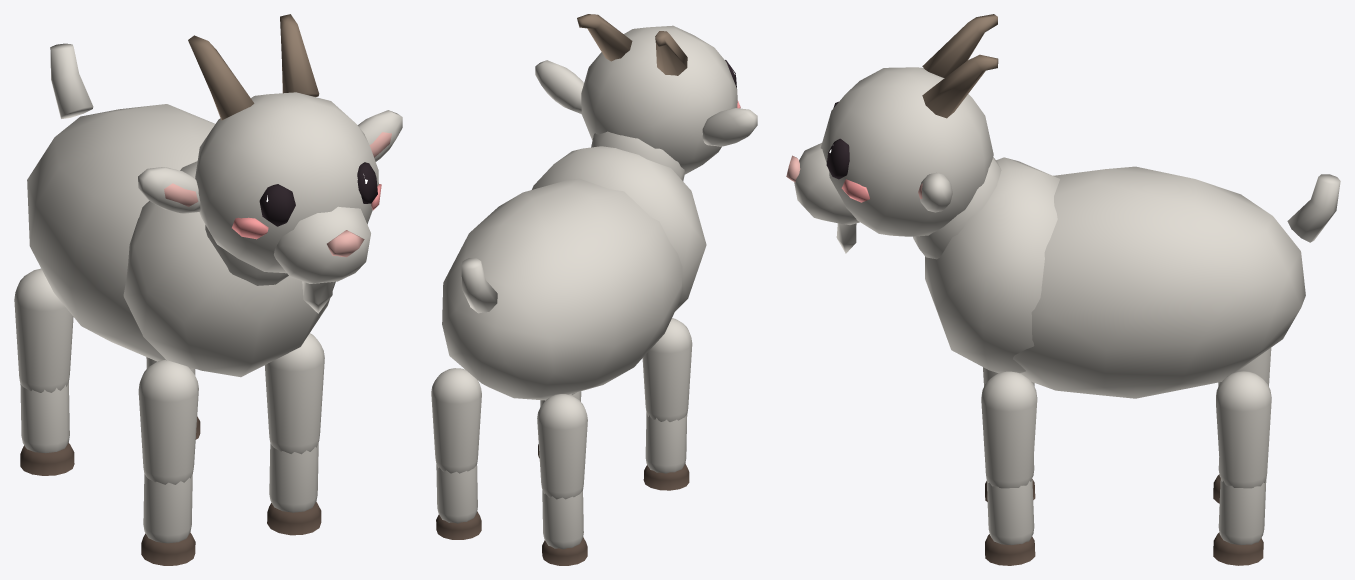
File: animal_goat.glb
3 views of the same model, side by side, from view 1: azimuth 30°, elevation 25°; view 2: azimuth 150°, elevation 25°; view 3: azimuth 270°, elevation 25° (orthographic). The views are drawn at different scales.
Parts seen in each view (by area): view 1: body_body, head_body, thigh, thigh.002, thigh.001, knee_BR_body, knee_FL_body, knee_FR_body, ear_R_body, tail.001, ear_L_body, neck.001; view 2: body_body, head_body, thigh.002, thigh.003, thigh, knee_FR_body, knee_BR_body, knee_BL_body, ear_R_body, ear_L_body, tail.001, neck.001; view 3: body_body, head_body, thigh.003, thigh.001, knee_BL_body, knee_FL_body, tail.001, neck.001, ear_L_body.
Part boxes in pixels (x1=…): body_body: x1=27, y1=104, x2=335, y2=377; head_body: x1=188, y1=14, x2=381, y2=313; thigh: x1=138, y1=360, x2=198, y2=484; thigh.002: x1=14, y1=268, x2=73, y2=392; thigh.001: x1=265, y1=333, x2=324, y2=454; knee_BR_body: x1=20, y1=381, x2=74, y2=475; knee_FL_body: x1=267, y1=443, x2=321, y2=535; knee_FR_body: x1=141, y1=473, x2=195, y2=565; ear_R_body: x1=138, y1=167, x2=200, y2=213; tail.001: x1=50, y1=43, x2=93, y2=118; ear_L_body: x1=357, y1=110, x2=402, y2=161; neck.001: x1=205, y1=225, x2=288, y2=285; body_body: x1=442, y1=146, x2=706, y2=400; head_body: x1=577, y1=14, x2=740, y2=174; thigh.002: x1=537, y1=394, x2=587, y2=499; thigh.003: x1=431, y1=368, x2=481, y2=473; thigh: x1=642, y1=318, x2=692, y2=421; knee_FR_body: x1=643, y1=412, x2=689, y2=490; knee_BR_body: x1=542, y1=490, x2=587, y2=565; knee_BL_body: x1=436, y1=464, x2=481, y2=539; ear_R_body: x1=702, y1=108, x2=757, y2=146; ear_L_body: x1=535, y1=60, x2=583, y2=113; tail.001: x1=461, y1=258, x2=497, y2=313; neck.001: x1=591, y1=131, x2=684, y2=181; body_body: x1=925, y1=157, x2=1305, y2=398; head_body: x1=786, y1=14, x2=998, y2=253; thigh.003: x1=1216, y1=371, x2=1271, y2=488; thigh.001: x1=981, y1=371, x2=1037, y2=488; knee_BL_body: x1=1213, y1=478, x2=1266, y2=565; knee_FL_body: x1=985, y1=478, x2=1035, y2=565; tail.001: x1=1287, y1=174, x2=1340, y2=242; neck.001: x1=913, y1=157, x2=1001, y2=259; ear_L_body: x1=918, y1=172, x2=952, y2=212.
Size of the model in its own units: 0.4945 by 0.946 by 0.9697.
